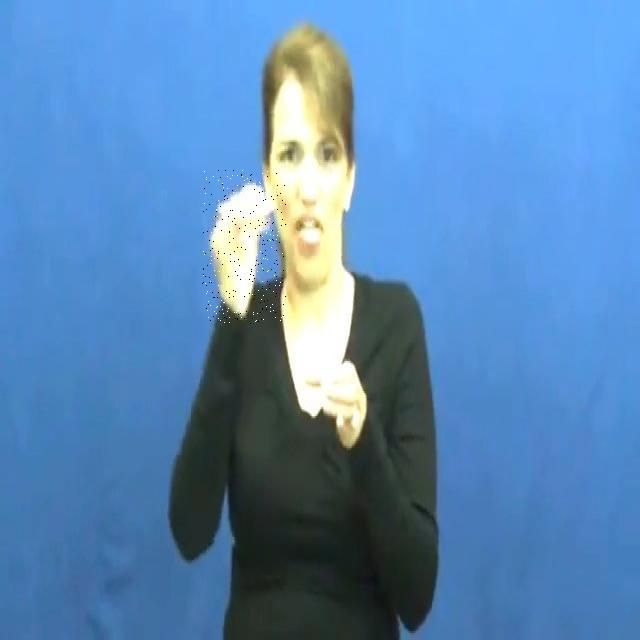straw: (202, 170, 286, 324)
